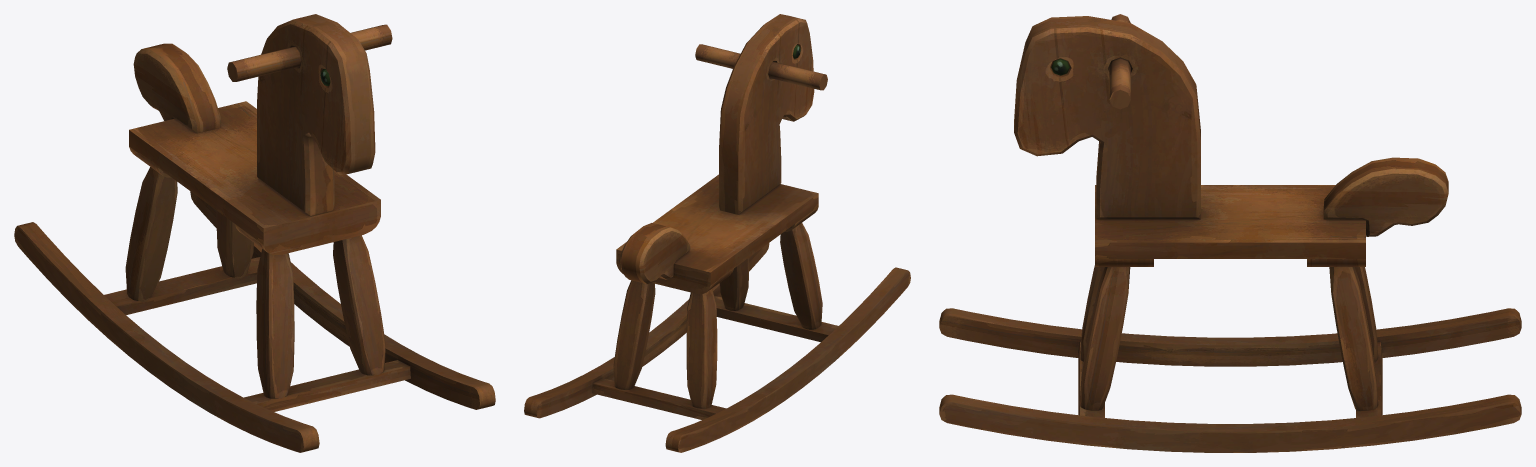
The model's file is rocking_horse.glb.
3 views of the same model, side by side, from view 1: azimuth 30°, elevation 25°; view 2: azimuth 150°, elevation 25°; view 3: azimuth 270°, elevation 25° (orthographic). The views are drawn at different scales.
Visible parts, largest first — view 1: rocking_horse; view 2: rocking_horse; view 3: rocking_horse.
Part boxes in pixels (x1,y1,x2,y2): rocking_horse: (14,14,495,452); rocking_horse: (524,14,910,452); rocking_horse: (939,14,1521,452).
Size of the model in its own units: 0.3641 by 0.6944 by 0.9527.
1 material, 1 textured.
